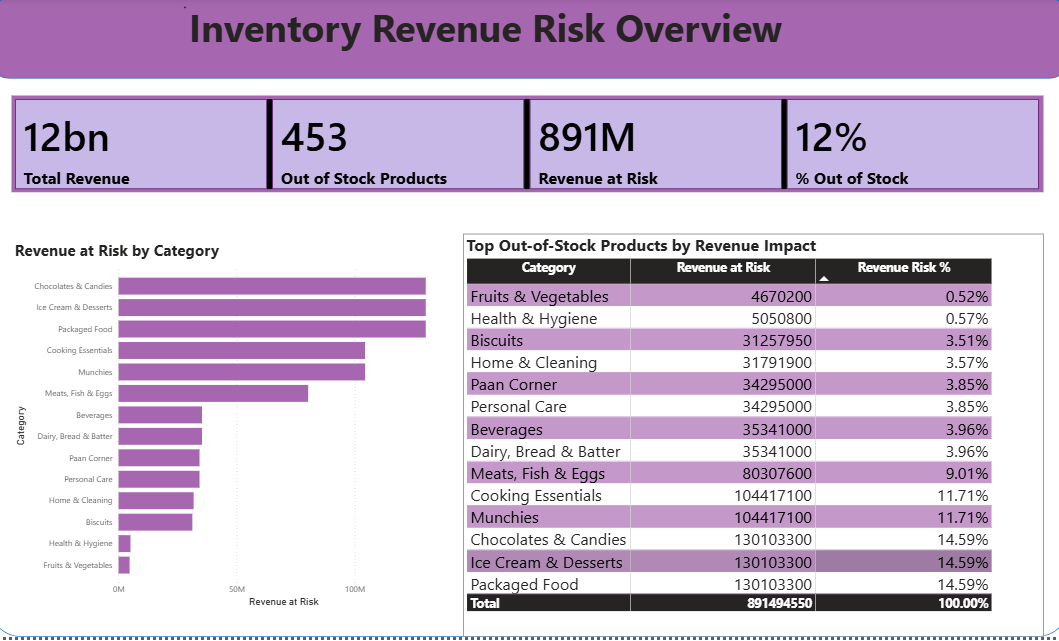

Layout of this report page (visuals, bound fields, positions):
{"tool":"powerbi","page":{"name":"Page 1","canvas":[1600,951],"ordinal":0},"visuals":[{"type":"shape","box":[-8,-9,1608,960],"z":0},{"type":"shape","box":[-8,0,1608,120],"z":1000},{"type":"cardVisual","fields":{"Data":["zepto_v2 (1).Total Revenue","zepto_v2 (1).Out of Stock Products","zepto_v2 (1).Revenue at Risk","zepto_v2 (1).% Out of Stock"]},"box":[24,144,1536,144],"z":2000},{"type":"barChart","fields":{"Category":["zepto_v2 (1).Category"],"Y":["zepto_v2 (1).Revenue at Risk"]},"box":[24,360,672,552],"z":3000},{"type":"tableEx","title":"Top Out-of-Stock Products by Revenue Impact","fields":{"Values":["zepto_v2 (1).Category","zepto_v2 (1).Revenue at Risk","zepto_v2 (1).Revenue Risk %"]},"box":[696,351,864,600],"z":4000},{"type":"textbox","box":[48,0,1344,120],"z":5000}]}

Visuals, with their boxes in screenshot pixels (x1, y1, x2, y2), scaled from the page's 1600x951 canvas onto the 1059x641 screenshot:
shape: [x1=0, y1=0, x2=1058, y2=640]
shape: [x1=0, y1=0, x2=1058, y2=81]
cardVisual - zepto_v2 (1).Total Revenue x zepto_v2 (1).Out of Stock Products: [x1=16, y1=97, x2=1033, y2=194]
barChart - zepto_v2 (1).Category x zepto_v2 (1).Revenue at Risk: [x1=16, y1=243, x2=461, y2=615]
"Top Out-of-Stock Products by Revenue Impact" tableEx: [x1=461, y1=237, x2=1033, y2=640]
textbox: [x1=32, y1=0, x2=921, y2=81]
